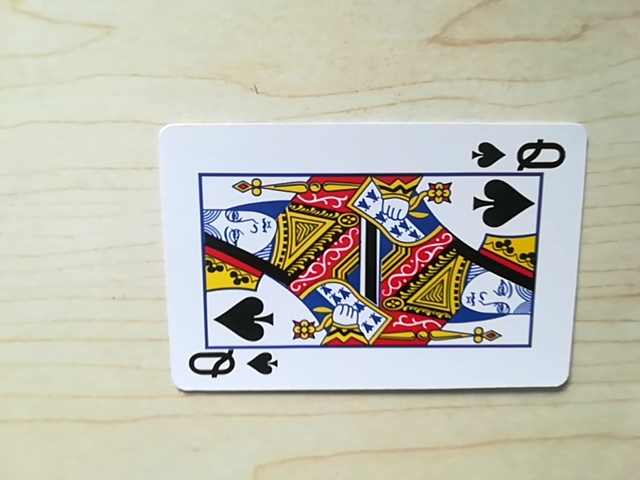ht q: (472, 134, 566, 175), (187, 345, 278, 386)
